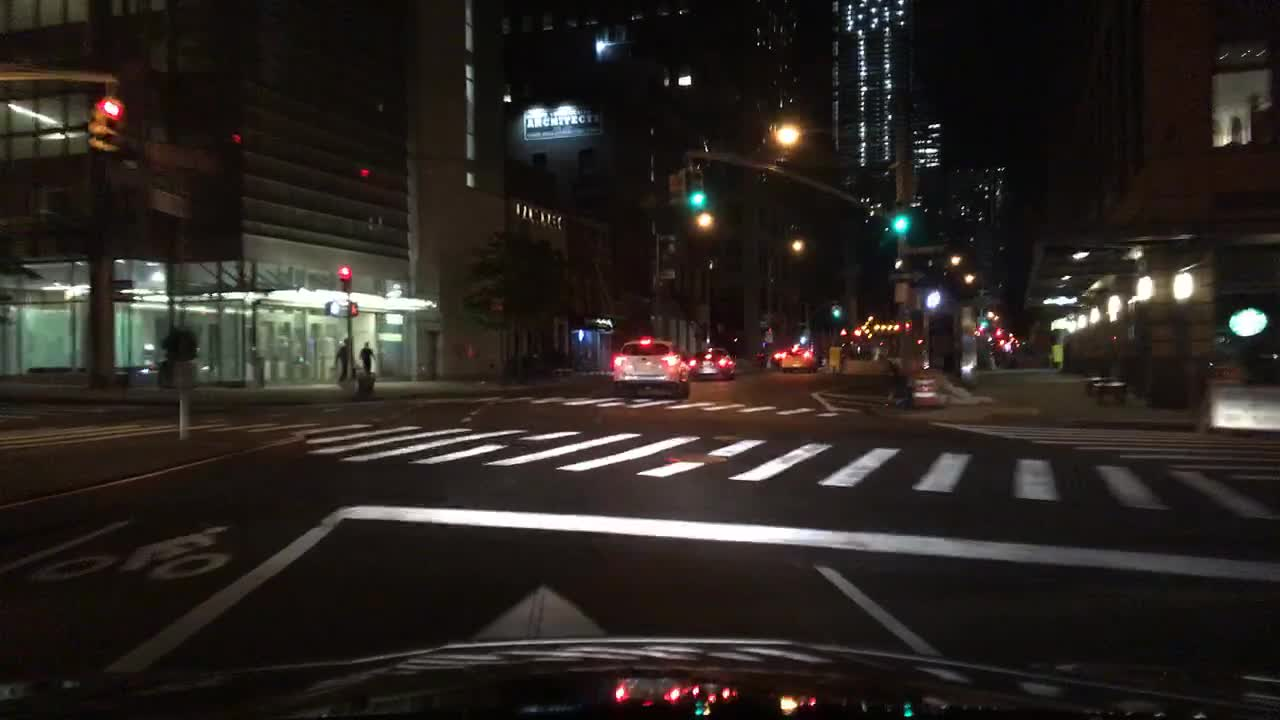car: (611, 336, 692, 401), (779, 339, 820, 374), (688, 346, 732, 378), (751, 346, 784, 368)
person: (332, 337, 356, 386), (157, 326, 180, 368), (177, 324, 197, 359), (356, 341, 374, 373)
traffic light: (101, 93, 121, 152), (84, 99, 106, 150), (665, 165, 685, 209), (891, 196, 908, 239), (688, 169, 705, 209), (921, 283, 940, 314), (336, 263, 351, 292), (975, 310, 989, 327), (830, 300, 842, 317), (346, 300, 359, 315), (852, 326, 860, 341), (994, 327, 1002, 341)
traffic sign: (896, 236, 945, 253), (887, 266, 928, 285), (109, 287, 135, 304), (656, 263, 678, 280), (656, 226, 676, 243), (111, 277, 133, 292)
